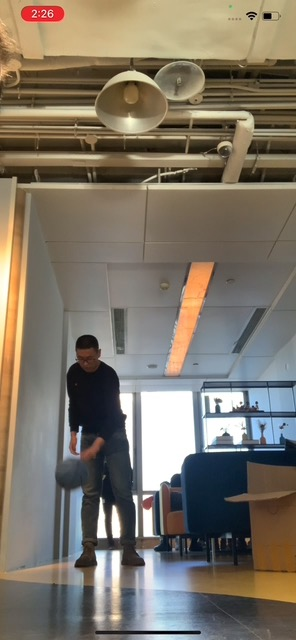ball: (55, 457, 88, 491)
